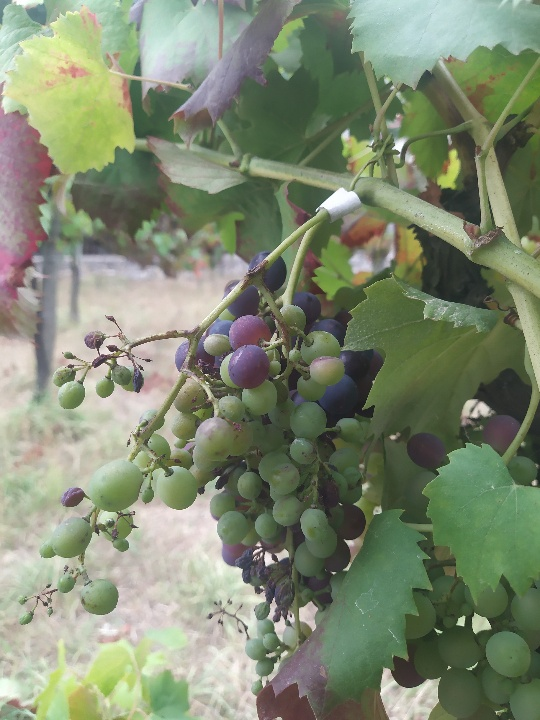grape: (16, 248, 371, 679)
